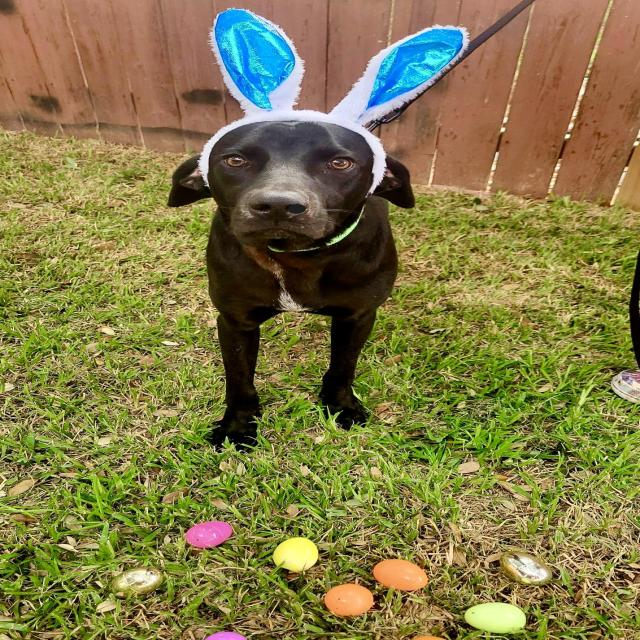labrador_retriever_dog: (156, 109, 427, 262)
